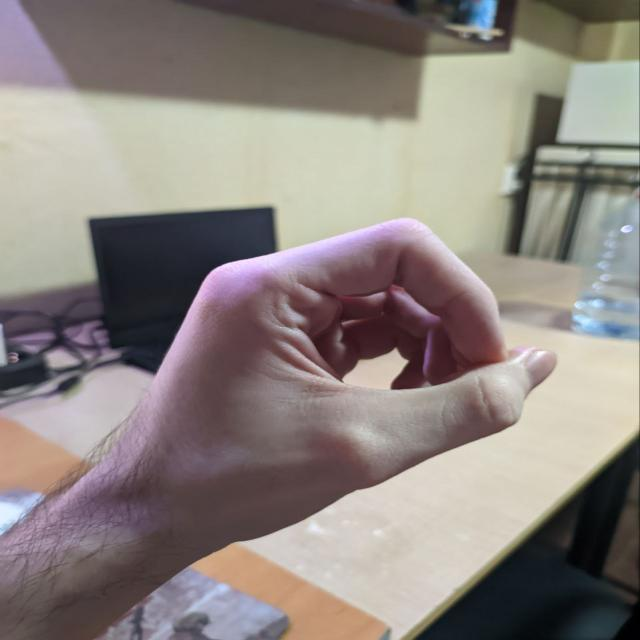e: (131, 190, 559, 522)
